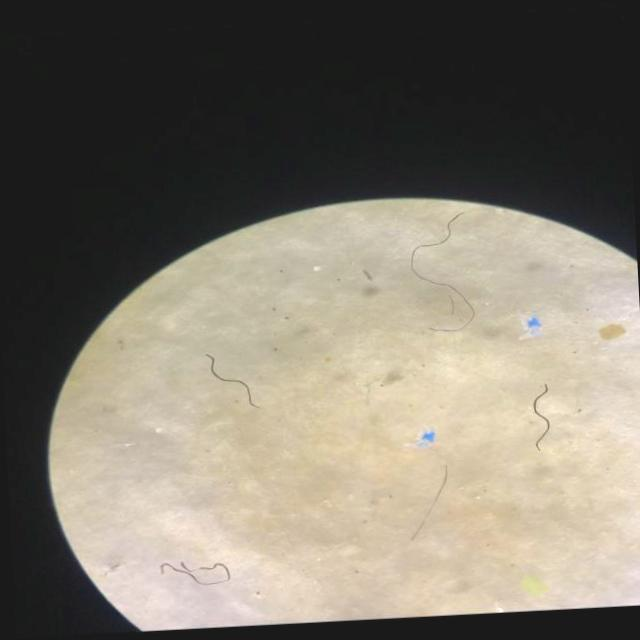fiber: (411, 212, 475, 331), (410, 466, 447, 538), (207, 354, 255, 407), (160, 561, 229, 586), (532, 384, 549, 449)
film: (411, 429, 433, 447), (524, 316, 540, 334)
fragment: (522, 576, 545, 595), (600, 323, 624, 340)
pellet: (313, 266, 319, 271), (156, 427, 161, 432)
